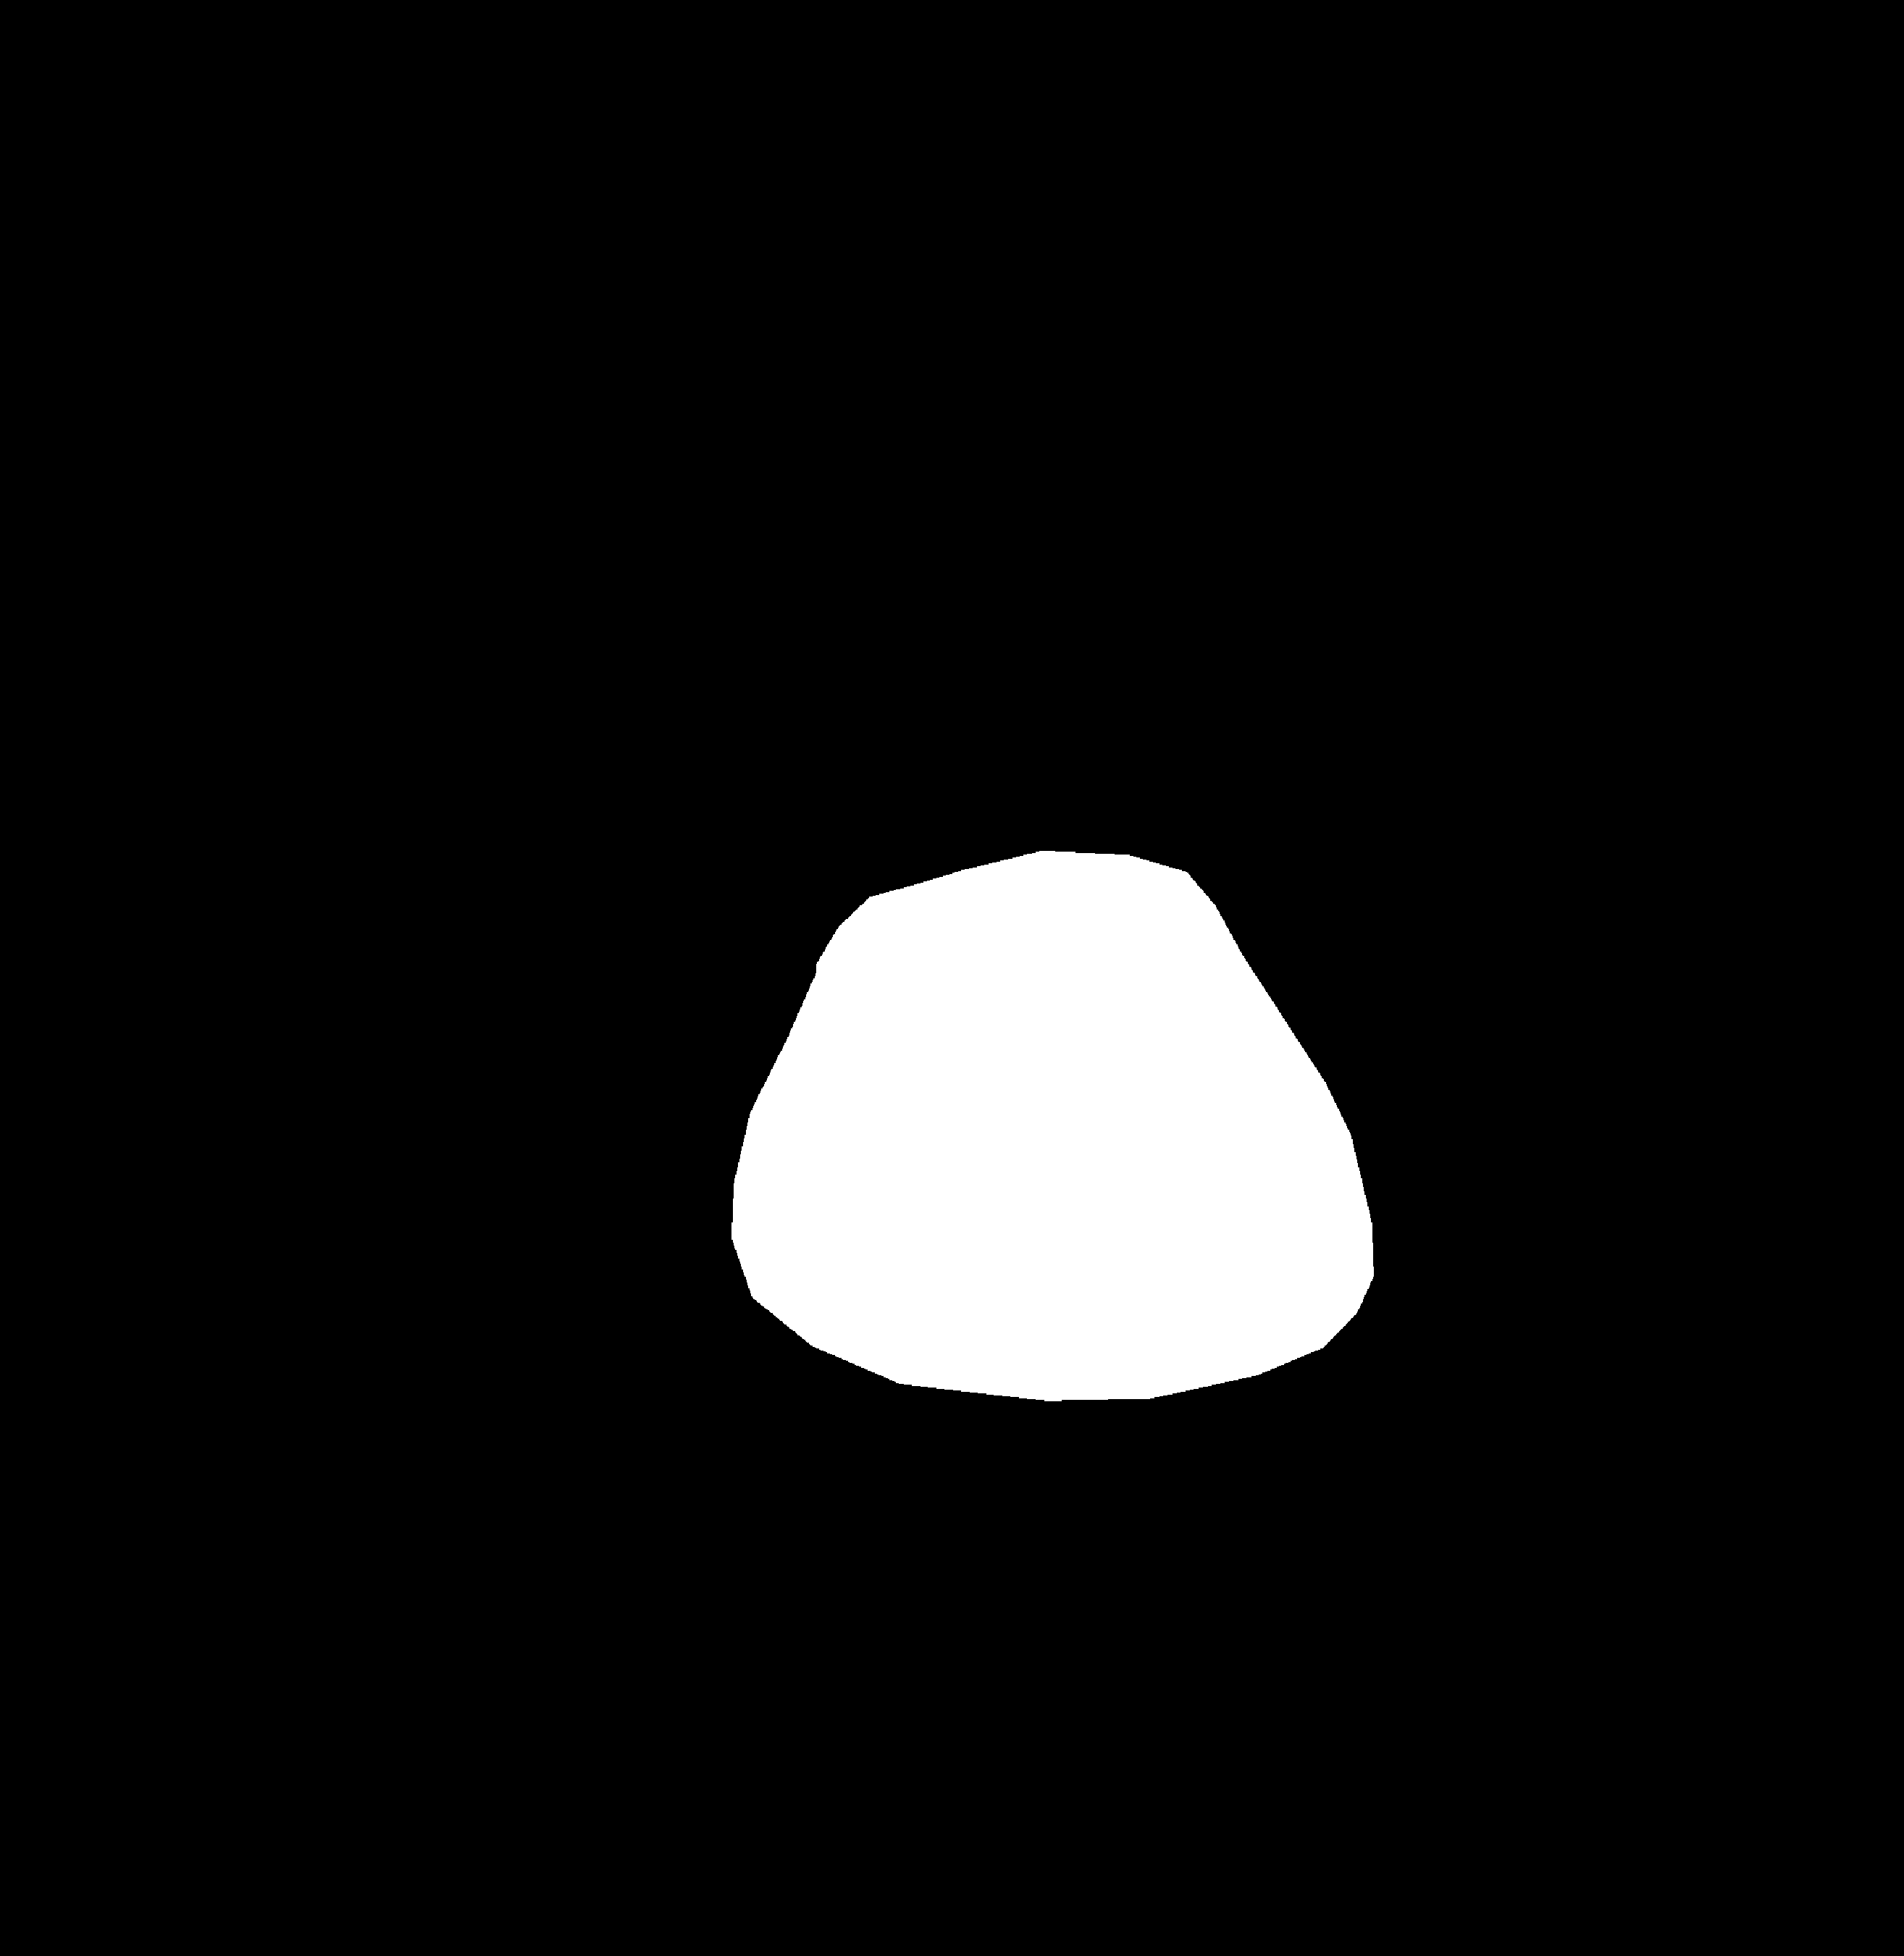heart: (730, 1001, 1380, 1451)
left_lung: (250, 220, 882, 1565)
right_lung: (1076, 271, 1682, 1526)
